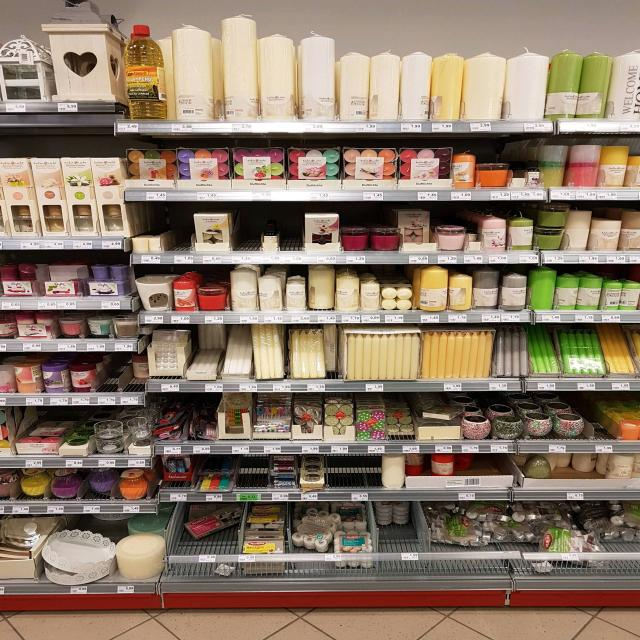void: (329, 461, 378, 485), (236, 210, 259, 251), (240, 457, 268, 485), (170, 214, 189, 250), (283, 208, 299, 250), (102, 365, 125, 387)
